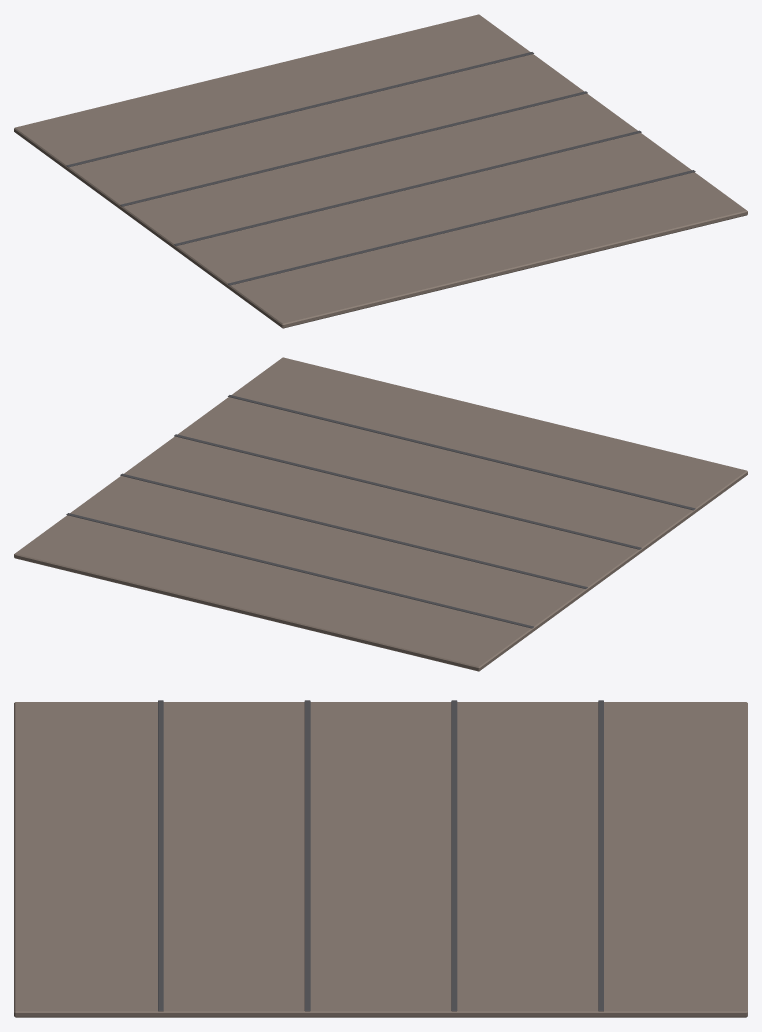
File: theatre-stage-and-backstage-backstage-floor-tile-43e15b90__35903.glb
3 renders of one model, top to bottom at view 1: azimuth 30°, elevation 25°; view 2: azimuth 150°, elevation 25°; view 3: azimuth 270°, elevation 25°, orthographic. The views are drawn at different scales.
Visible parts, largest first — view 1: backstage-floor-tile; view 2: backstage-floor-tile; view 3: backstage-floor-tile.
Boxes of the visible parts, x1=… form: backstage-floor-tile: x1=14, y1=14, x2=747, y2=328; backstage-floor-tile: x1=14, y1=357, x2=747, y2=671; backstage-floor-tile: x1=14, y1=700, x2=747, y2=1017.
Size of the model in its own units: 2 by 0.023 by 2.
